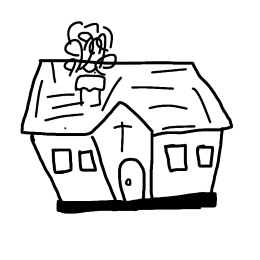door: (114, 154, 150, 205)
open_window: (162, 141, 192, 176), (194, 140, 220, 172), (48, 147, 76, 175), (75, 147, 99, 176)
roof: (17, 54, 241, 139)
smoking_chimney: (63, 20, 123, 111)
wall: (22, 123, 231, 222)
